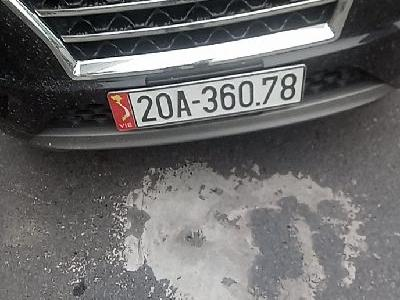number: (107, 65, 308, 128)
